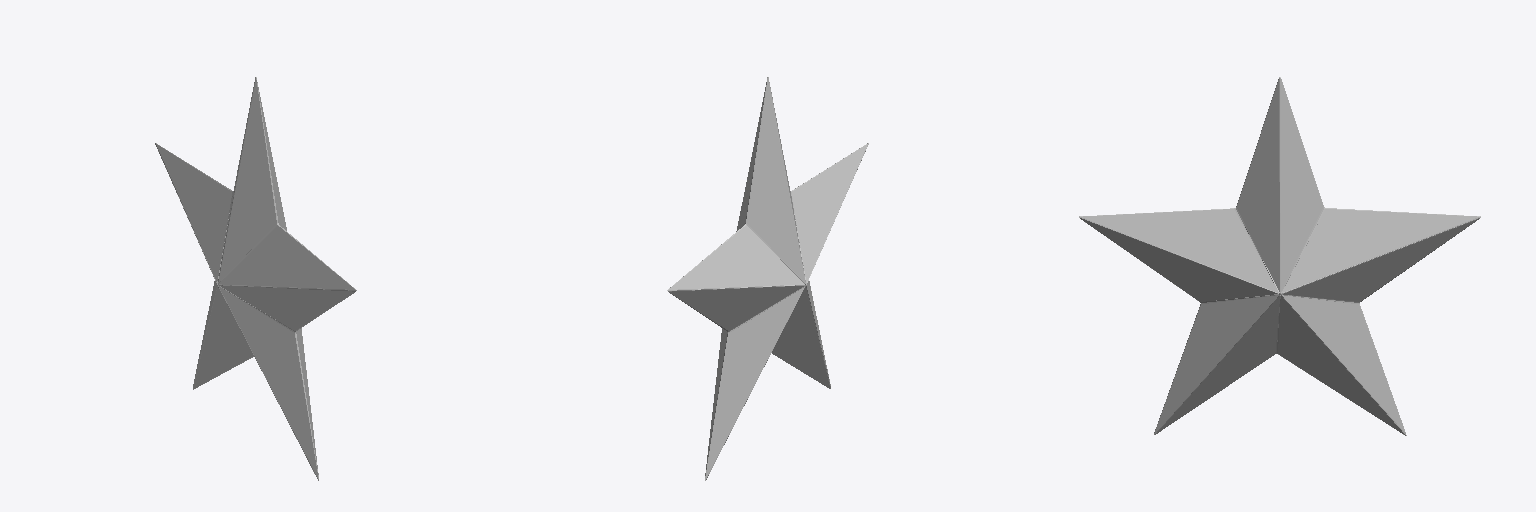
The model's file is star.obj.
3 views of the same model, side by side, from view 1: azimuth 30°, elevation 25°; view 2: azimuth 150°, elevation 25°; view 3: azimuth 270°, elevation 25° (orthographic).
Parts seen in each view (by area): view 1: star_decoration.1_Mesh_0; view 2: star_decoration.1_Mesh_0; view 3: star_decoration.1_Mesh_0.
Boxes of the visible parts, <box> form: star_decoration.1_Mesh_0: <box>155,77,356,480</box>; star_decoration.1_Mesh_0: <box>667,77,868,480</box>; star_decoration.1_Mesh_0: <box>1079,77,1480,435</box>.
Size of the model in its own units: 0.0618 by 0.2776 by 0.2821.